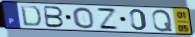0: (128, 8, 147, 31)
B: (43, 5, 66, 29)
D: (20, 4, 44, 28)
O: (71, 6, 96, 30)
Q: (151, 9, 174, 33)
Z: (95, 7, 121, 31)
